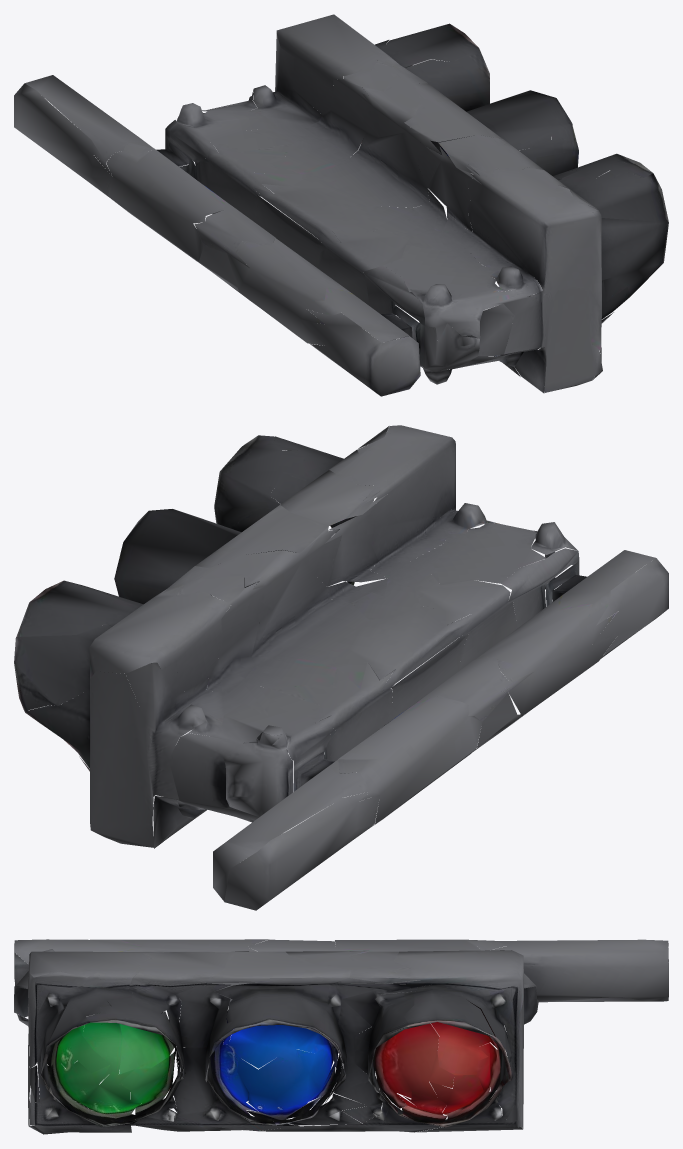
File: traffic_signal.glb
3 views of the same model, one above another, from view 1: azimuth 30°, elevation 25°; view 2: azimuth 150°, elevation 25°; view 3: azimuth 270°, elevation 25° (orthographic). The views are drawn at different scales.
Parts seen in each view (by area): view 1: tripo_node_5bb9475b-a8c6-42fc-91fc-6f24627d2489; view 2: tripo_node_5bb9475b-a8c6-42fc-91fc-6f24627d2489; view 3: tripo_node_5bb9475b-a8c6-42fc-91fc-6f24627d2489.
Boxes of the visible parts, bbox=[...] form: tripo_node_5bb9475b-a8c6-42fc-91fc-6f24627d2489: bbox=[14, 14, 668, 396]; tripo_node_5bb9475b-a8c6-42fc-91fc-6f24627d2489: bbox=[14, 425, 668, 910]; tripo_node_5bb9475b-a8c6-42fc-91fc-6f24627d2489: bbox=[14, 939, 668, 1134].
Bounding box in the file's own units: 0.5905 × 0.3001 × 1.11.
Materials: 1 (1 with a texture image).
